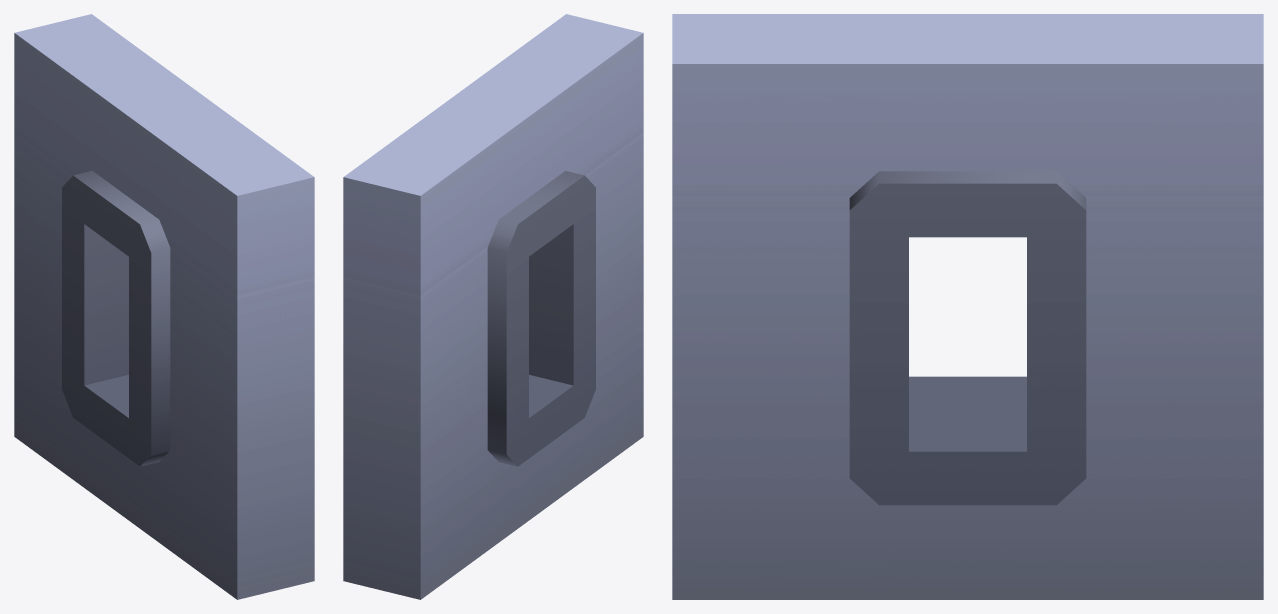
The model's file is wall-window-small.glb.
3 renders of one model, left to right at view 1: azimuth 30°, elevation 25°; view 2: azimuth 150°, elevation 25°; view 3: azimuth 270°, elevation 25°, orthographic. The views are drawn at different scales.
Visible parts, largest first — view 1: wall-window-small; view 2: wall-window-small; view 3: wall-window-small.
Part boxes in pixels (x1,y1,x2,y2): wall-window-small: [14, 14, 314, 599]; wall-window-small: [343, 14, 643, 599]; wall-window-small: [672, 14, 1263, 599].
Size of the model in its own units: 0.3 by 1 by 1.
Materials: 1 (1 with a texture image).
